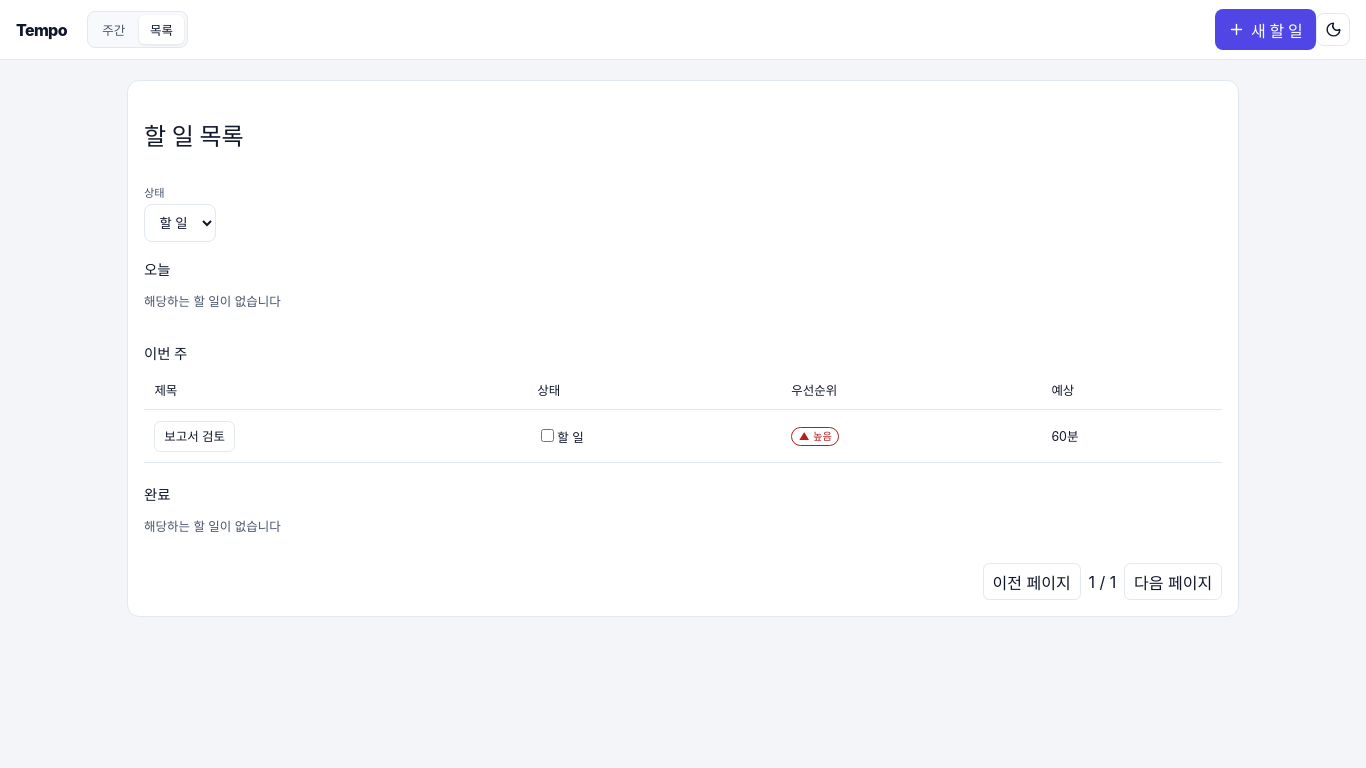
Test case: real U1 feature hook integration › FR_009_FR_010_lists_URL_filtered_tasks_and_sets_completion
Click the checkbox. click: click(548, 436)
box: [541,429,554,442]
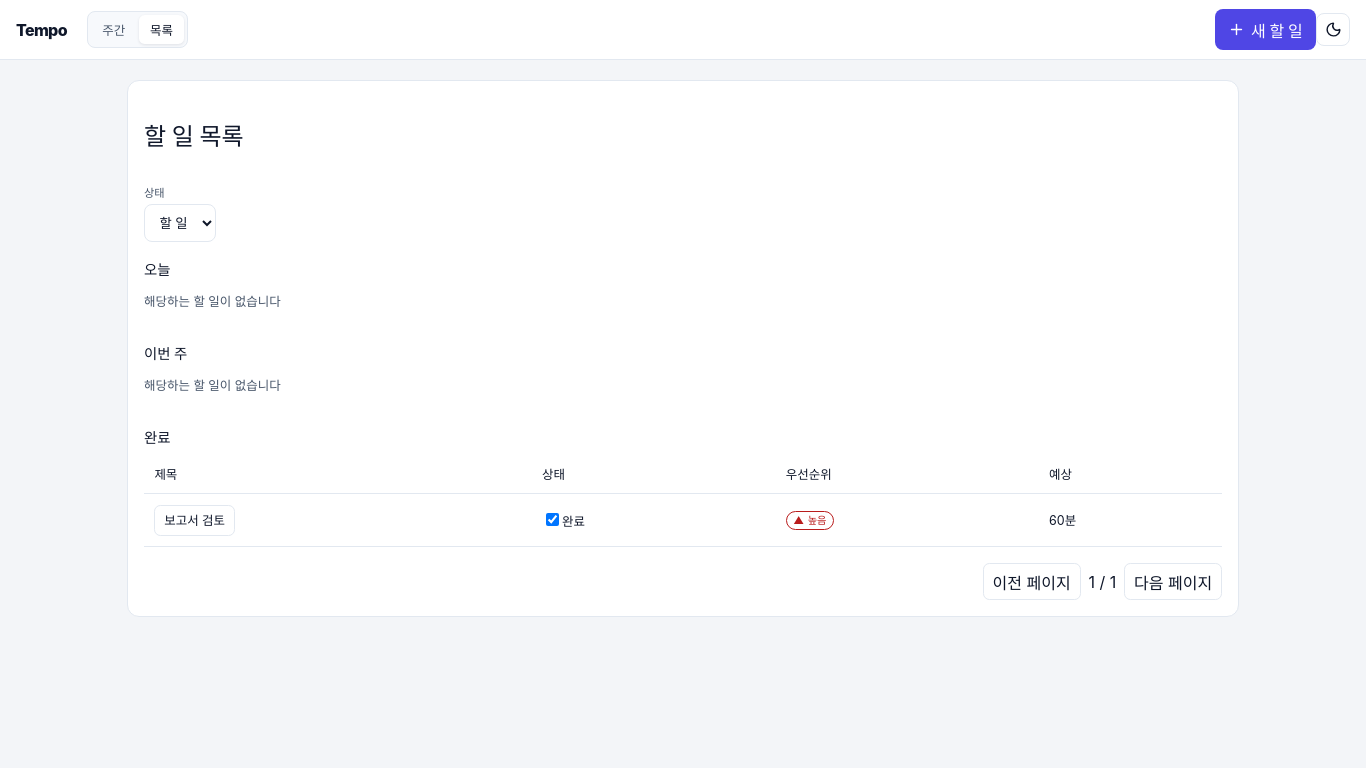
Check: the checkbox is checked, box [546,513,559,526]
